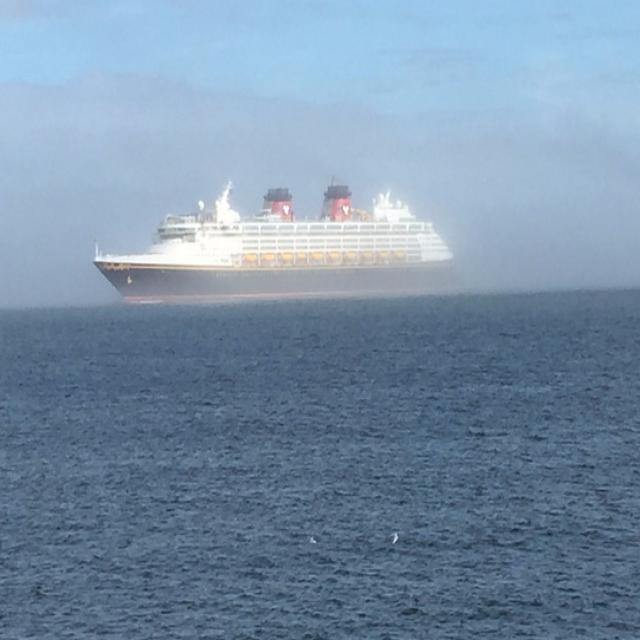passenger ship: (77, 168, 451, 296)
